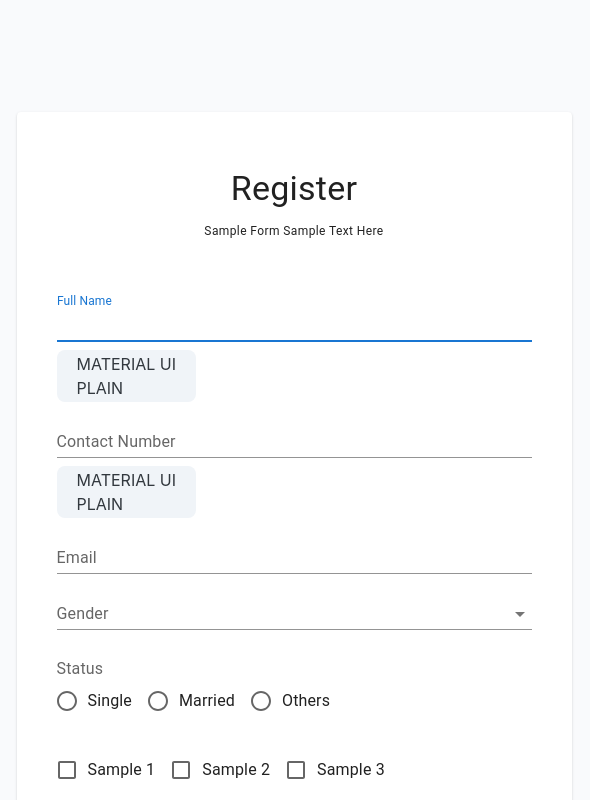
Scenario: Contact Number Field Test › Should display Maximum of 11 number
Type "123456789011122121" into the number field labelled "Contact Number". click: [294, 442]
box: [56,426,532,458]
(page scrolled)
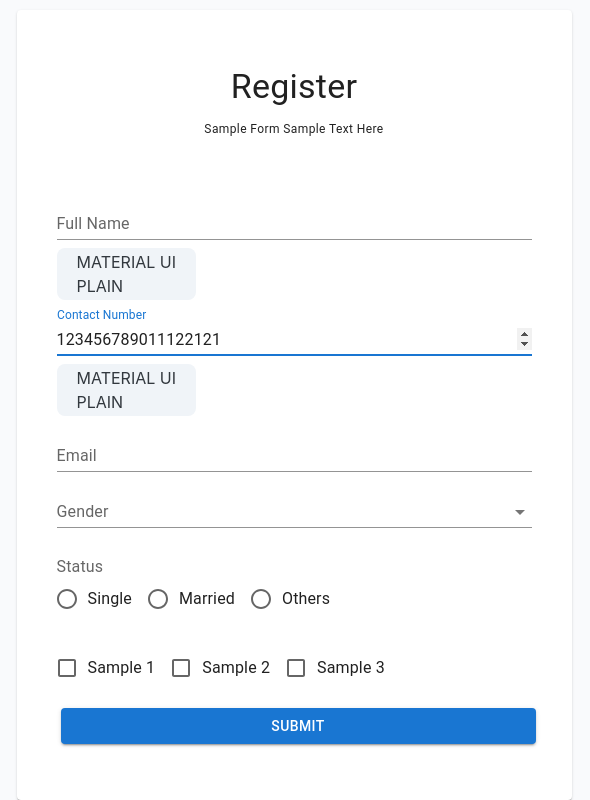
Click the button "SUBMIT". click: [298, 726]
box: [60,708,536,744]
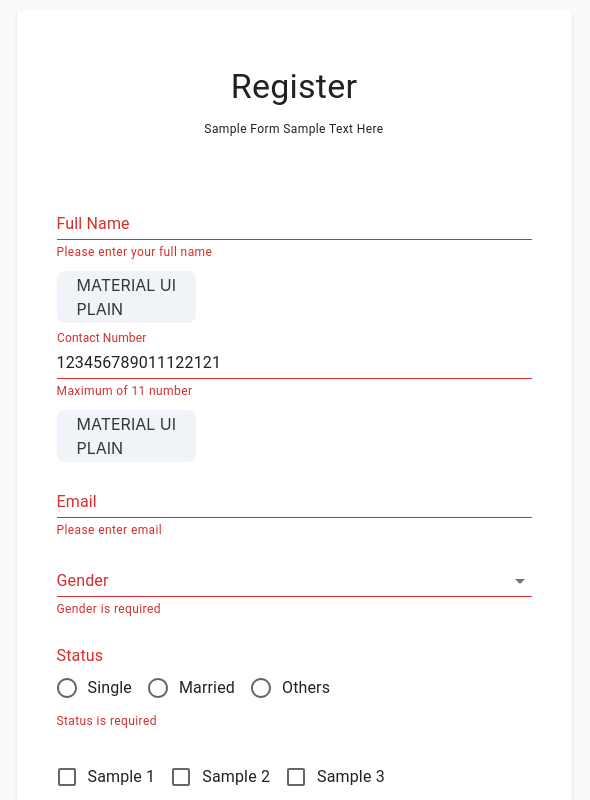
Result: the text "Maximum of 11 number" is shown at [56,384,192,398]
